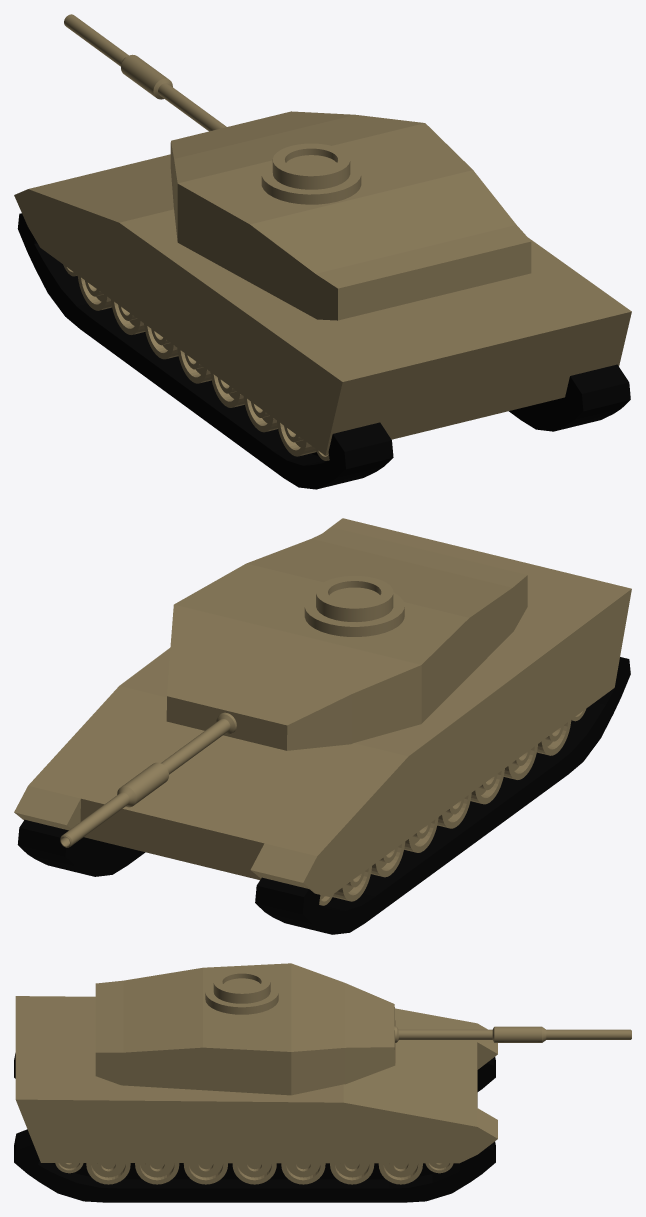
File: TheTank.fbx
3 views of the same model, one above another, from view 1: azimuth 30°, elevation 25°; view 2: azimuth 150°, elevation 25°; view 3: azimuth 270°, elevation 25° (orthographic). The views are drawn at different scales.
Parts seen in each view (by area): view 1: Tank Bottom; view 2: Tank Bottom; view 3: Tank Bottom.
Boxes of the visible parts, x1=… form: Tank Bottom: x1=14, y1=14, x2=631, y2=489; Tank Bottom: x1=14, y1=518, x2=631, y2=934; Tank Bottom: x1=14, y1=963, x2=631, y2=1202.
Bounding box in the file's own units: 3.37 × 8.49 × 2.46.
